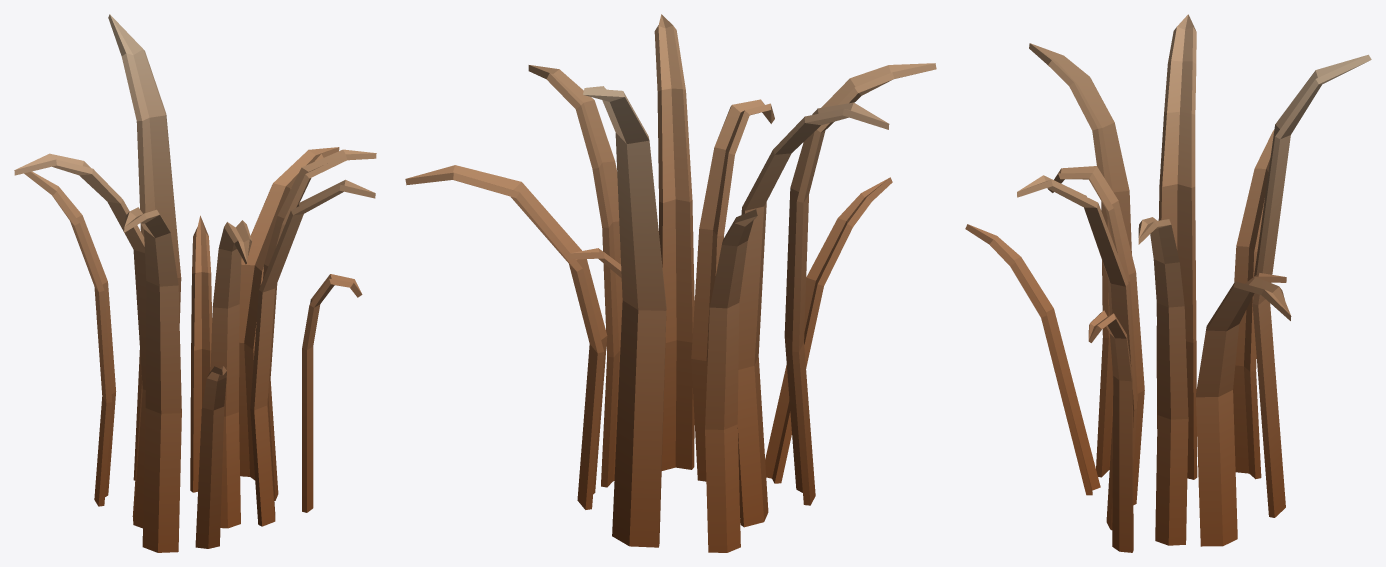
Rendered from plants brown 2.fbx.
3 renders of one model, left to right at view 1: azimuth 30°, elevation 25°; view 2: azimuth 150°, elevation 25°; view 3: azimuth 270°, elevation 25°, orthographic. The views are drawn at different scales.
Visible parts, largest first — view 1: plants brown 2; view 2: plants brown 2; view 3: plants brown 2.
Part boxes in pixels (x1=…): plants brown 2: x1=14, y1=14, x2=376, y2=552; plants brown 2: x1=405, y1=14, x2=936, y2=552; plants brown 2: x1=965, y1=14, x2=1371, y2=552.
Bounding box in the file's own units: 162 × 178 × 145.
